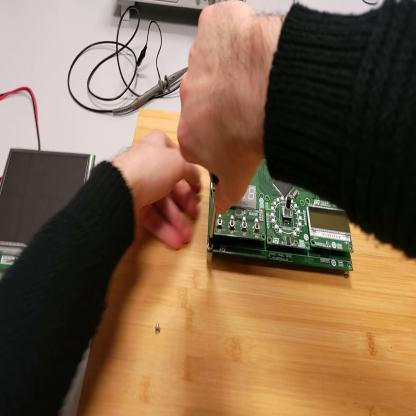hand: (177, 3, 266, 216), (116, 128, 202, 248)
low voltage board: (207, 161, 355, 274)
oscilloscope: (119, 2, 207, 27)
oscilloscope probe tip: (112, 66, 190, 113)
working area: (76, 110, 416, 414)
